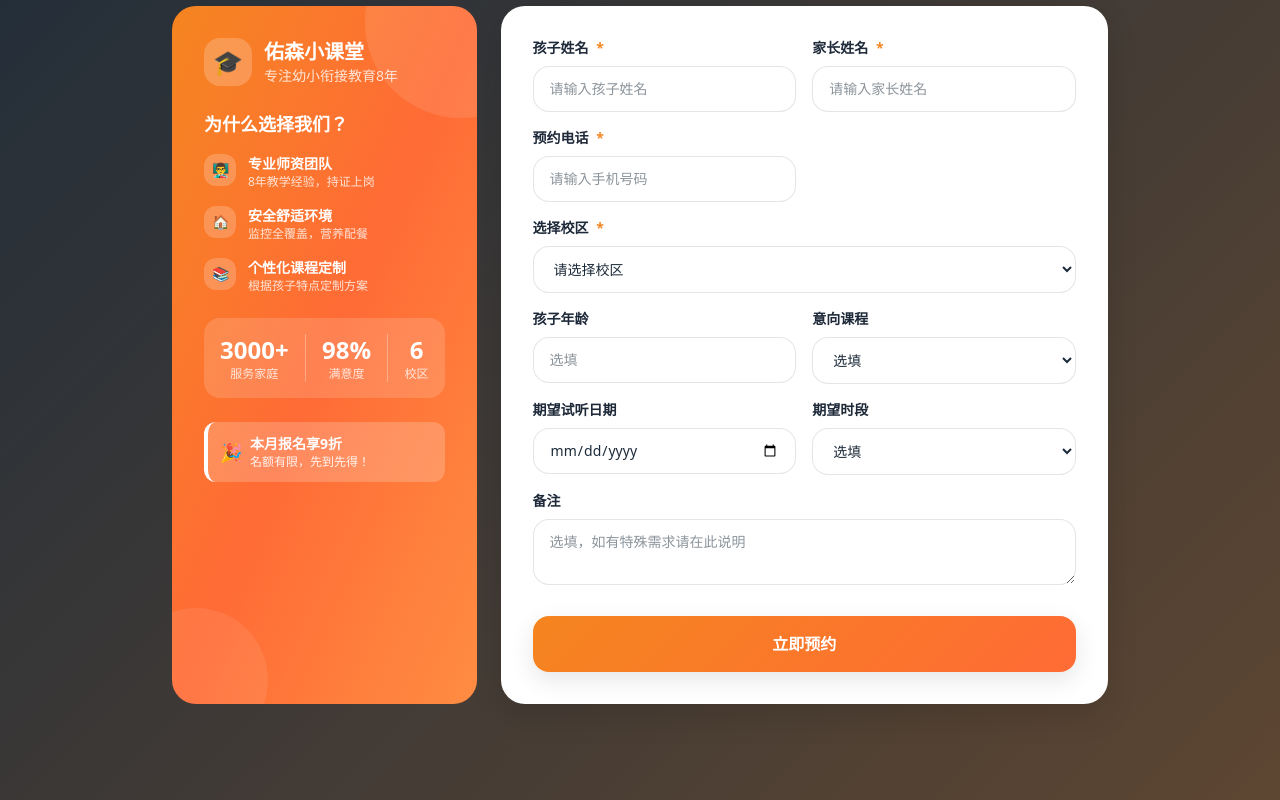
it: ContactForm 组件 › 必填字段为空时显示错误（childName/parentName/phone/campus）
The image size is (1280, 800).
(page scrolled)
Click the button "立即预约" at (804, 644), box [533,616,1076,672]
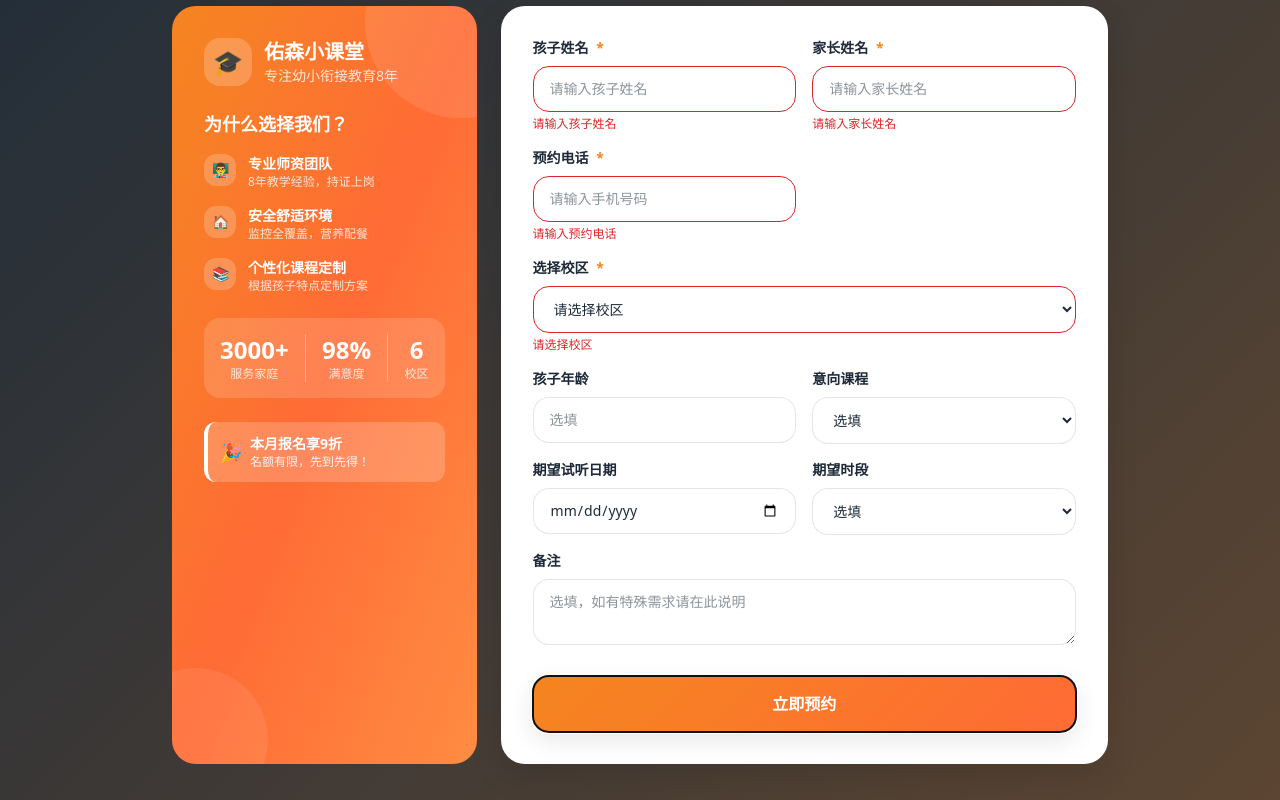
Expected: the text "请输入孩子姓名" is shown, [533,115,617,132]
Expected: the text "请输入家长姓名" is shown, [812,115,896,132]
Expected: the text "请输入预约电话" is shown, [533,225,617,242]
